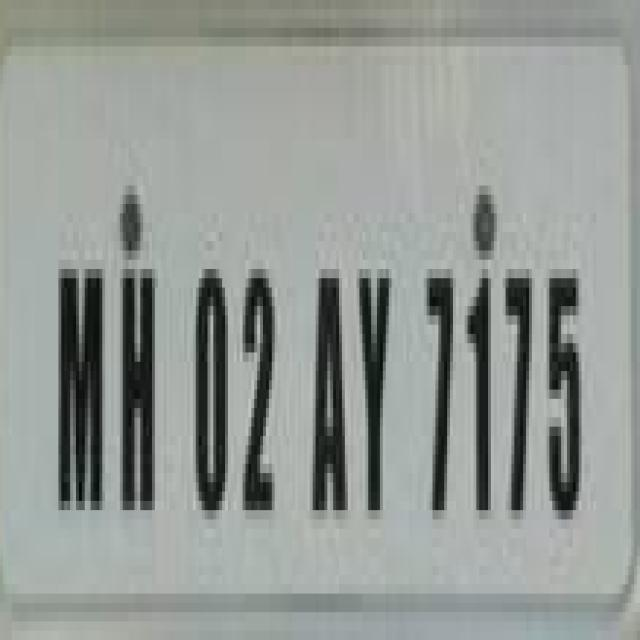license_plate: (0, 47, 614, 612)
